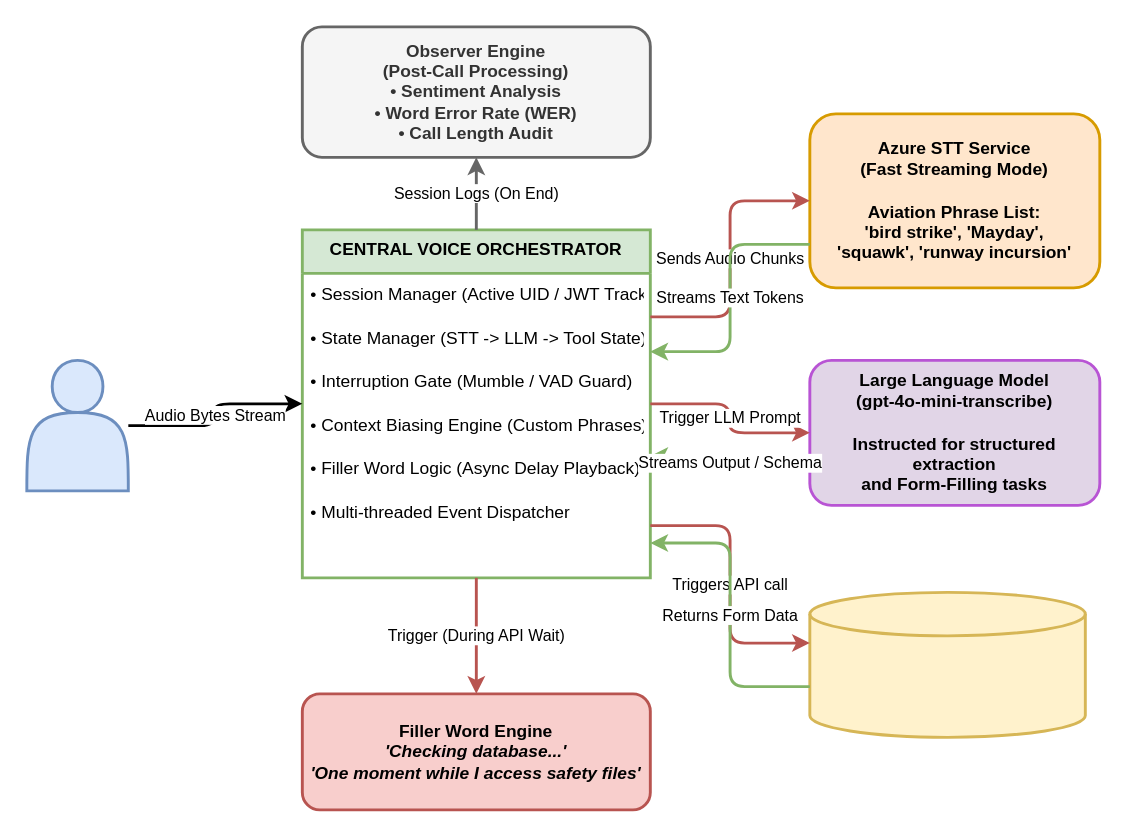
The diagram is 1125 pixels wide and 835 high, and some of its shapes have lost their labels. Here are the shapes that lost their labels. From the top down, the box of each, then its label:
(25, 358, 129, 492): User Speech (16kHz Mono)
(808, 590, 1086, 738): External Tools / APIs (Incident Database, Safety Forms DB)
